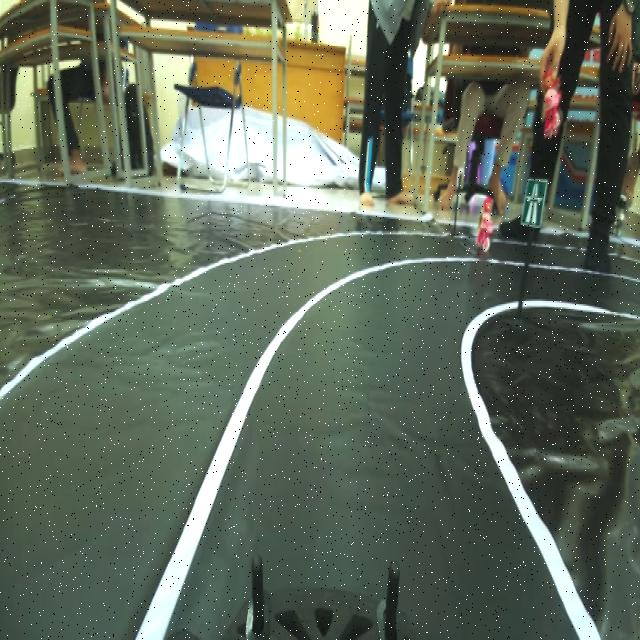highway_entry: (521, 171, 547, 231)
pedestrian: (471, 185, 499, 257)
